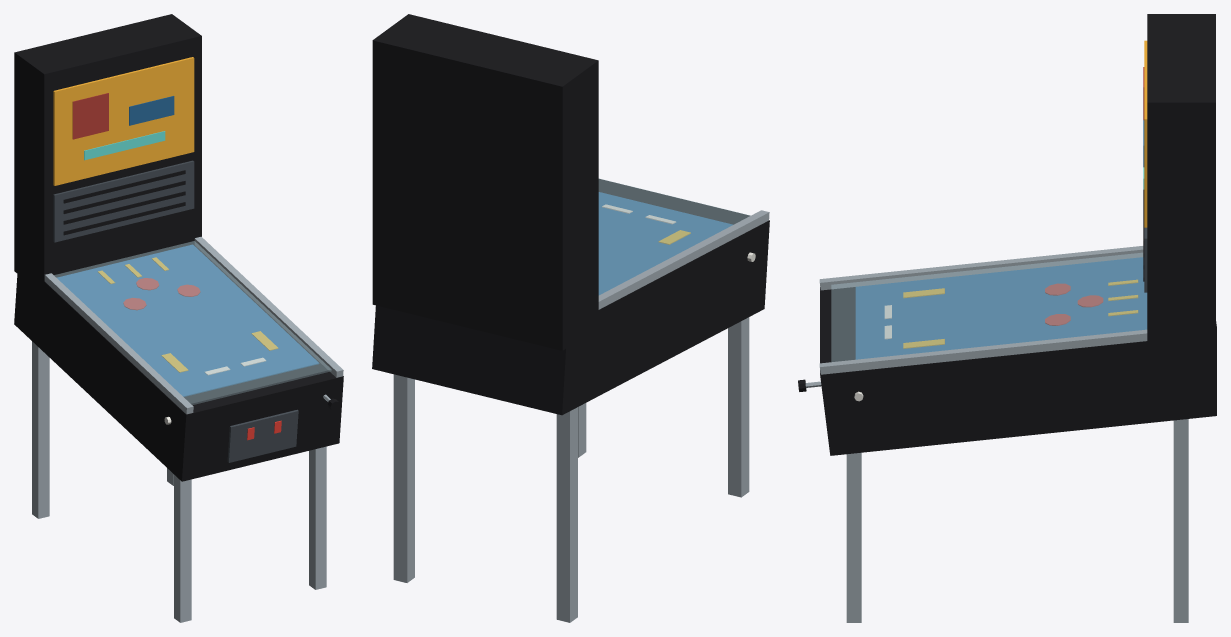
File: GH_Pinball_01.glb
3 renders of one model, left to right at view 1: azimuth 30°, elevation 25°; view 2: azimuth 150°, elevation 25°; view 3: azimuth 270°, elevation 25°, orthographic. The views are drawn at different scales.
Parts seen in each view (by area): view 1: GH_Pinball_01; view 2: GH_Pinball_01; view 3: GH_Pinball_01.
Part boxes in pixels (box(x1,y1,x2,y2)): GH_Pinball_01: box(14, 14, 343, 622); GH_Pinball_01: box(372, 14, 769, 622); GH_Pinball_01: box(798, 14, 1216, 622).
Size of the model in its own units: 0.728 by 1.93 by 1.4.
2 materials, 2 textured.
